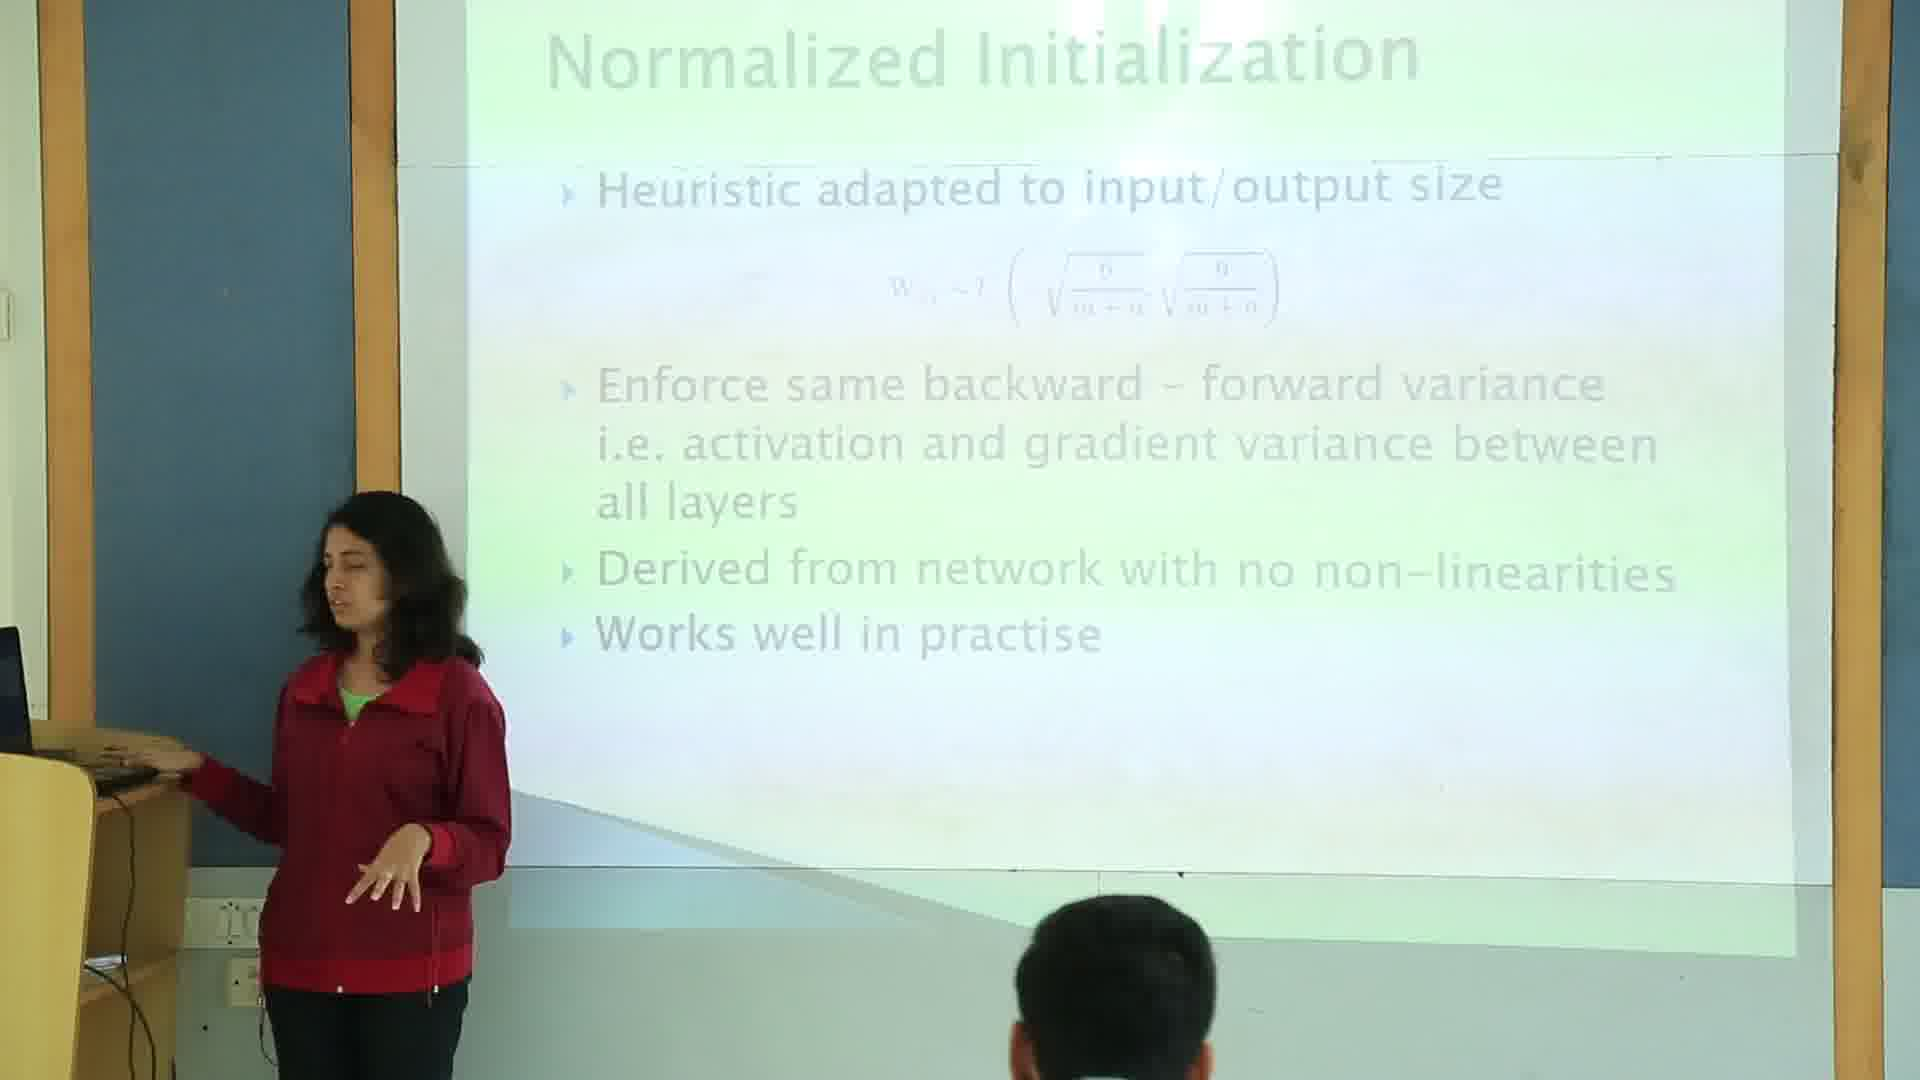slide: (465, 3, 1800, 955)
